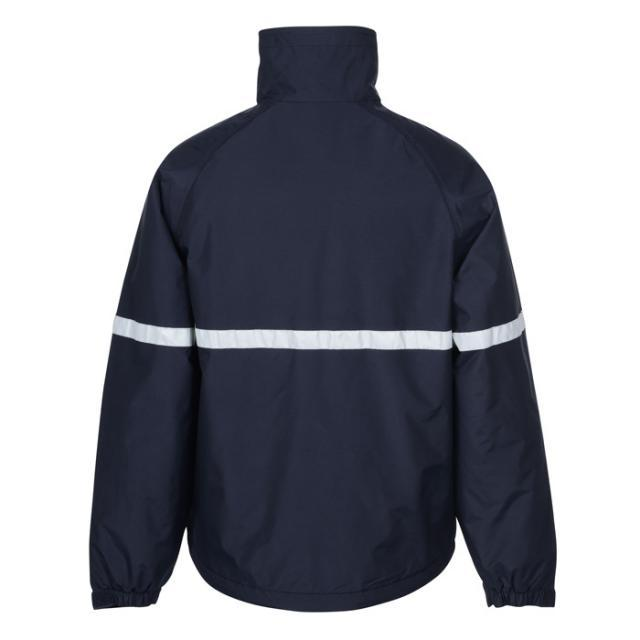reflective_jacket: (83, 19, 580, 639)
